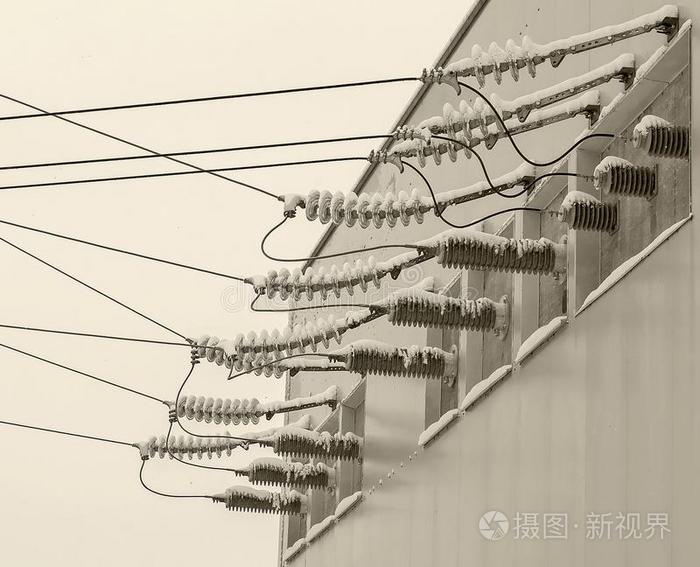insulator: (267, 255, 383, 305), (415, 96, 499, 165), (305, 183, 424, 229), (236, 314, 341, 360), (198, 336, 288, 382), (472, 34, 539, 87), (148, 428, 234, 463), (175, 393, 265, 425)
